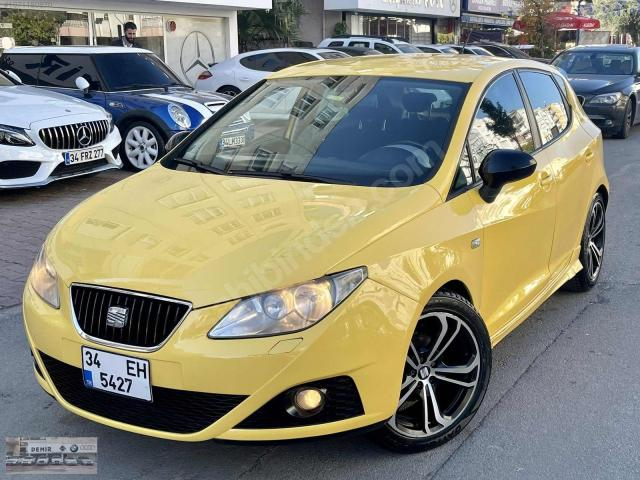plaka: (82, 346, 152, 402), (65, 148, 104, 165)
